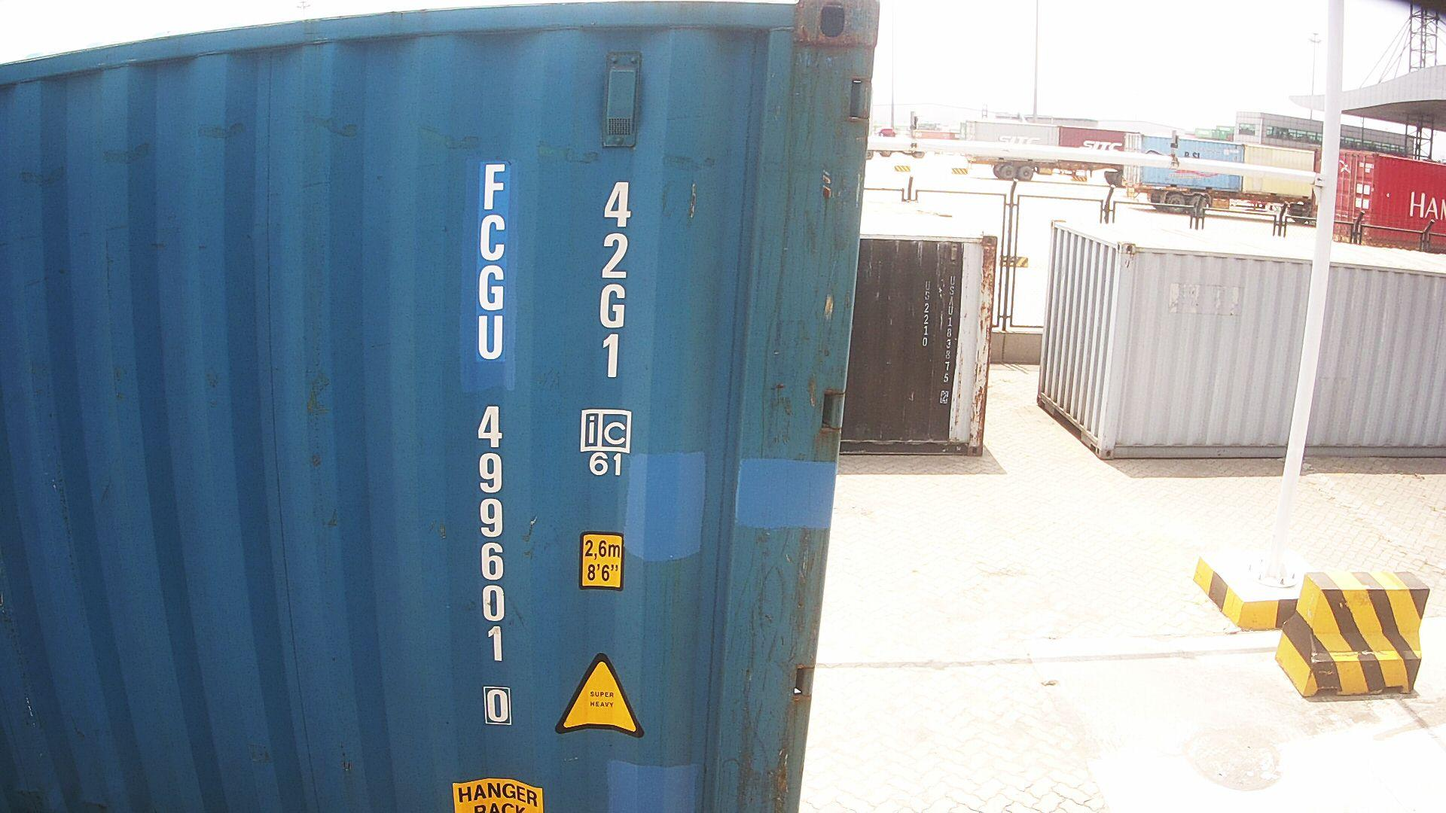container-numbers: (459, 155, 520, 731), (592, 173, 638, 385)
